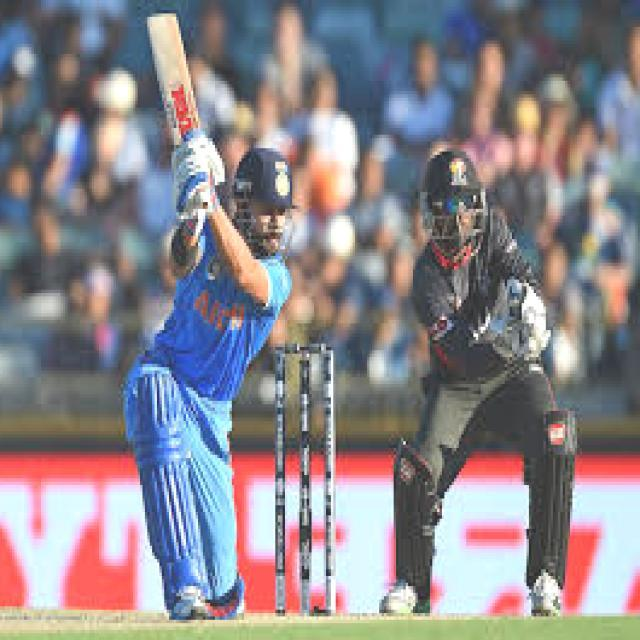bat: (141, 8, 210, 143)
toe: (141, 13, 180, 23)
